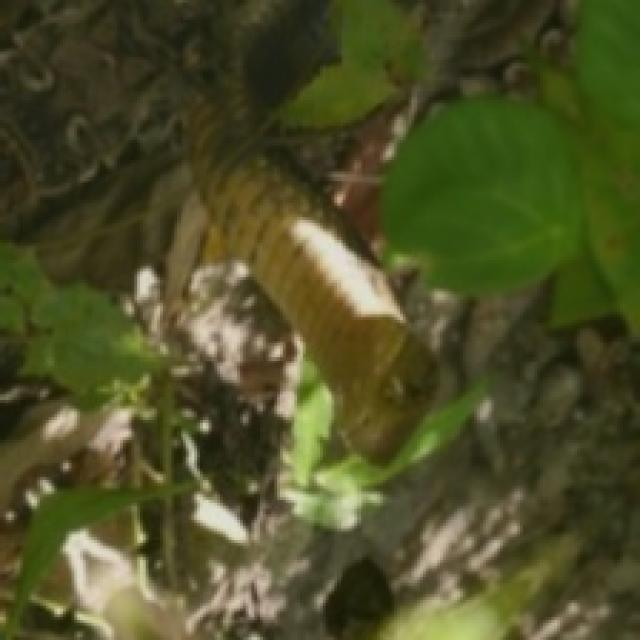king cobra: (0, 0, 434, 460)
